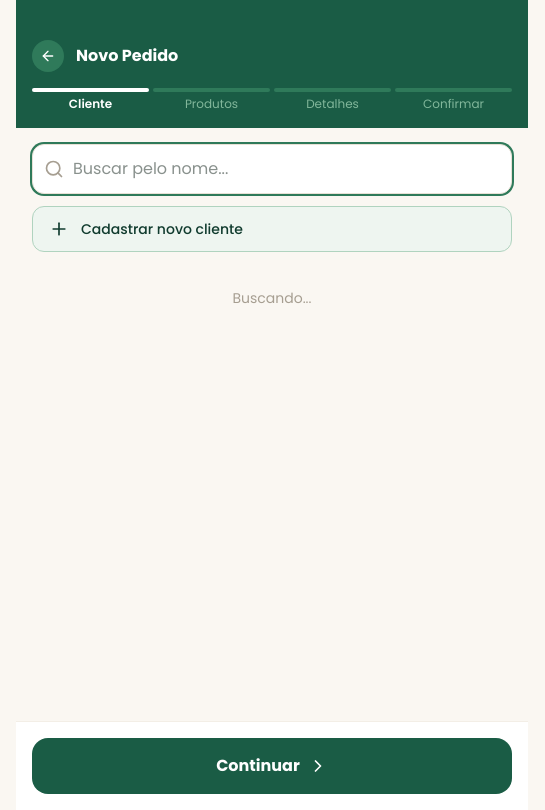
Novo pedido › revendedor: preço sugerido abaixo do campo e aviso de autorização
The image size is (545, 810).
Click the button "Continuar" at [272, 766], box [32,738,512,794]
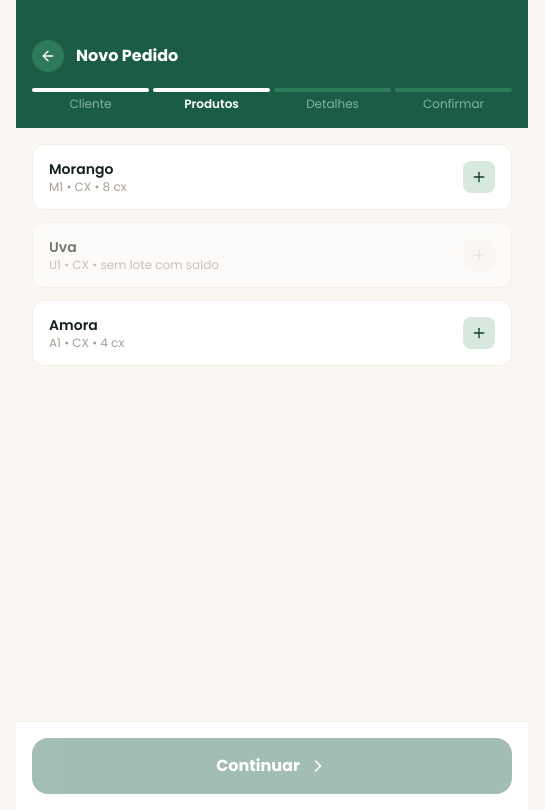
Click the text "Amora" at [73, 325], box [49,315,98,335]
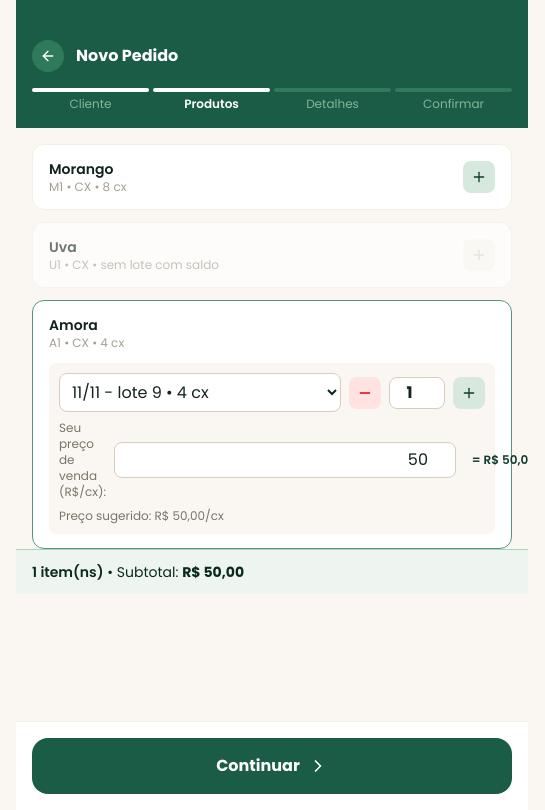
Expected: the text "Preço sugerido: R$ 50,00/cx" is shown, [59,507,224,524]
Replace the text in the number field showing "50" with "45" at [285, 460], box [114,442,456,478]
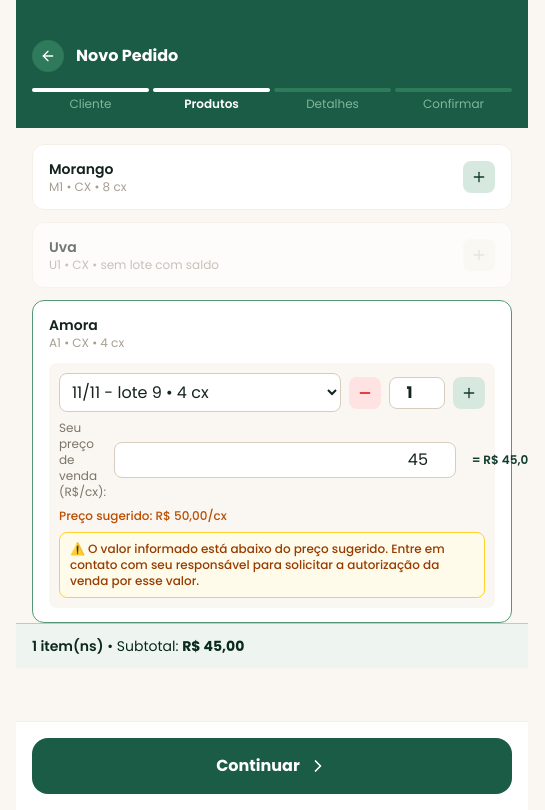
Expected: the message shows "O valor informado está abaixo do preço sugerido. Entre em contato com seu responsável", [70,540,445,589]
